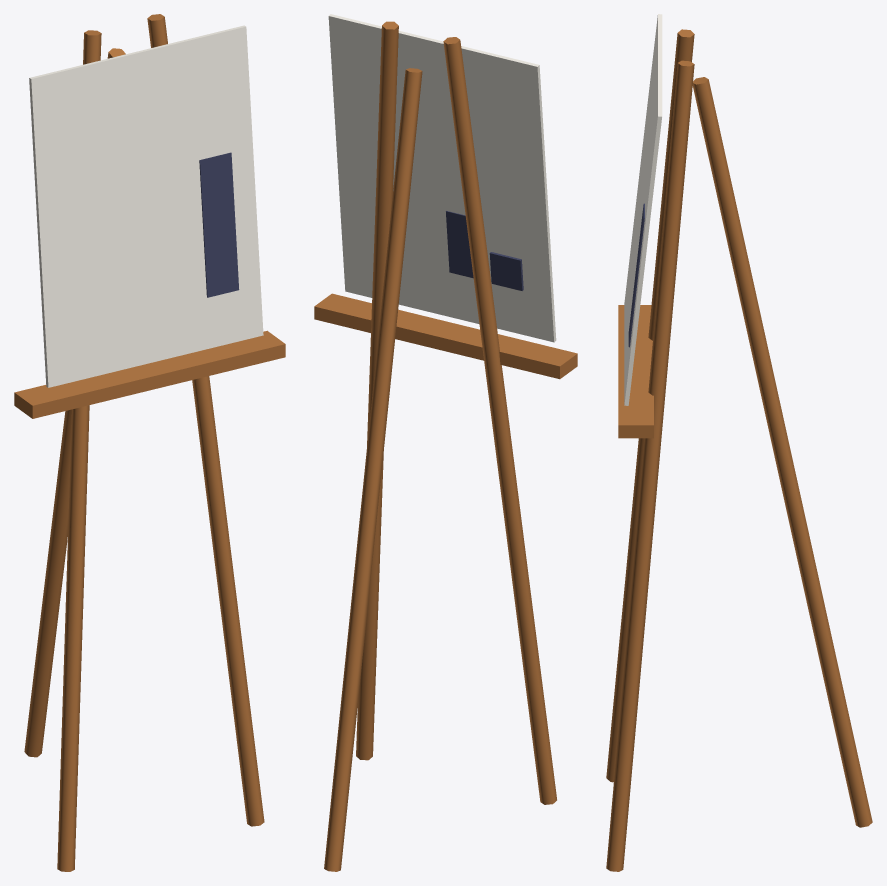
Rendered from station_special_ausstattung_3_0.glb.
3 views of the same model, side by side, from view 1: azimuth 30°, elevation 25°; view 2: azimuth 150°, elevation 25°; view 3: azimuth 270°, elevation 25° (orthographic). The views are drawn at different scales.
Visible parts, largest first — view 1: station_special_ausstattung_3_0; view 2: station_special_ausstattung_3_0; view 3: station_special_ausstattung_3_0.
Part boxes in pixels (x1=…): station_special_ausstattung_3_0: x1=14, y1=14, x2=285, y2=871; station_special_ausstattung_3_0: x1=314, y1=14, x2=577, y2=871; station_special_ausstattung_3_0: x1=606, y1=14, x2=872, y2=871.
Bounding box in the file's own units: 0.4 × 1.2 × 0.3737.
